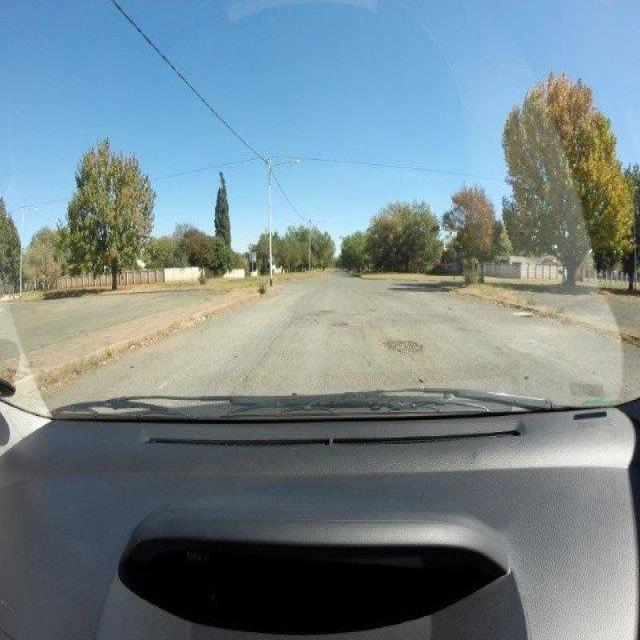lubang: (381, 332, 428, 360)
